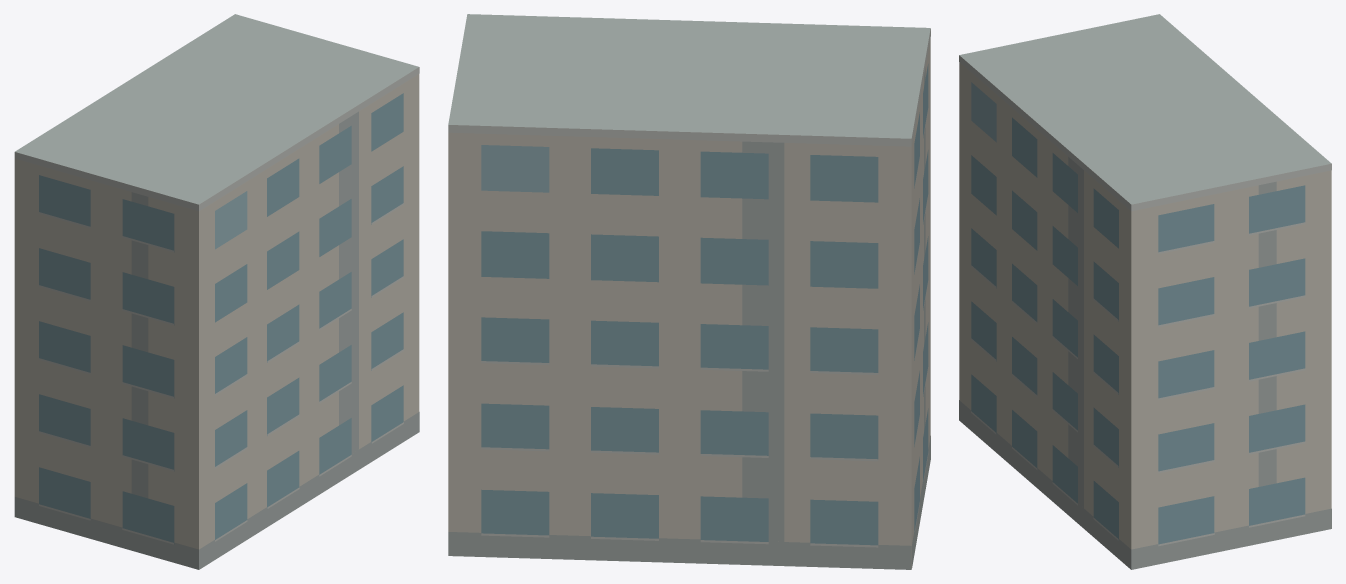
File: survey-upis-32845507.glb
The picture shows the model from 3 angles, left to right: view 1: azimuth 30°, elevation 25°; view 2: azimuth 150°, elevation 25°; view 3: azimuth 270°, elevation 25°; orthographic projection. The views are drawn at different scales.
Visible parts, largest first — view 1: survey-upis-32845507.tmp; view 2: survey-upis-32845507.tmp; view 3: survey-upis-32845507.tmp.
Boxes of the visible parts, left/top/right/bottom form: survey-upis-32845507.tmp: left=14, top=14, right=419, bottom=569; survey-upis-32845507.tmp: left=448, top=14, right=930, bottom=569; survey-upis-32845507.tmp: left=959, top=14, right=1331, bottom=569.
Bounding box in the file's own units: 14.95 × 13.35 × 12.36.
